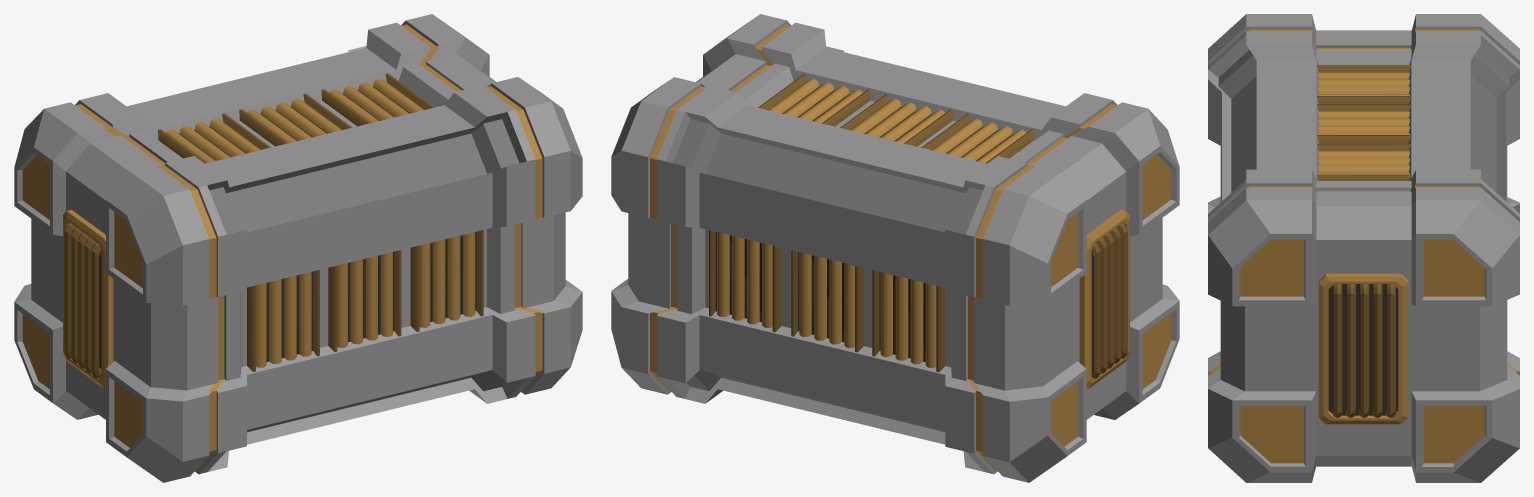
Rendered from Props_CrateLong.glb.
3 views of the same model, side by side, from view 1: azimuth 30°, elevation 25°; view 2: azimuth 150°, elevation 25°; view 3: azimuth 270°, elevation 25° (orthographic).
Visible parts, largest first — view 1: Props_CrateLong_Cube.021; view 2: Props_CrateLong_Cube.021; view 3: Props_CrateLong_Cube.021.
Boxes of the visible parts, x1=… form: Props_CrateLong_Cube.021: x1=14, y1=14, x2=582, y2=482; Props_CrateLong_Cube.021: x1=611, y1=14, x2=1179, y2=482; Props_CrateLong_Cube.021: x1=1208, y1=14, x2=1519, y2=482.
Size of the model in its own units: 1.23 by 0.7698 by 0.7698.
